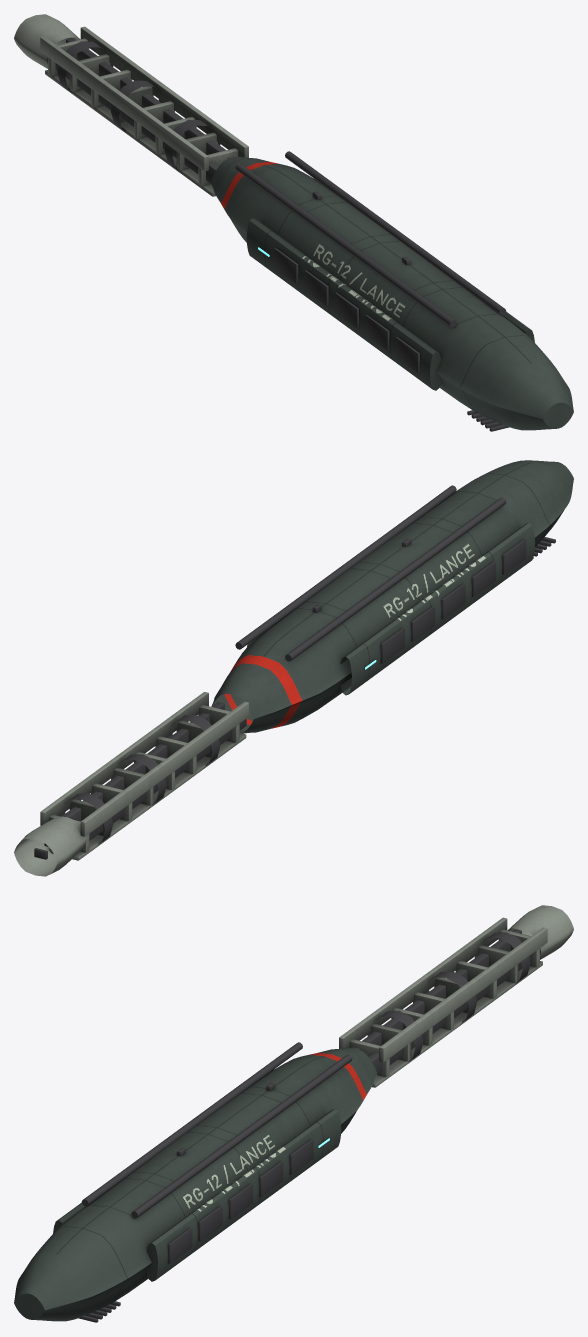
File: Lance.fbx
The picture shows the model from 3 angles, top to bottom: view 1: azimuth 30°, elevation 25°; view 2: azimuth 150°, elevation 25°; view 3: azimuth 330°, elevation 25°; orthographic projection.
Parts seen in each view (by area): view 1: Skin, Dark; view 2: Skin, Dark; view 3: Skin, Dark.
Boxes of the visible parts, left/top/right/bottom form: Skin: left=14, top=14, right=573, bottom=430; Dark: left=47, top=38, right=509, bottom=431; Skin: left=14, top=460, right=573, bottom=876; Dark: left=34, top=485, right=555, bottom=859; Skin: left=14, top=905, right=573, bottom=1321; Dark: left=78, top=929, right=540, bottom=1322.
Bounding box in the file's own units: 70.2 × 54.07 × 585.
Materials: 3 (1 with a texture image).
